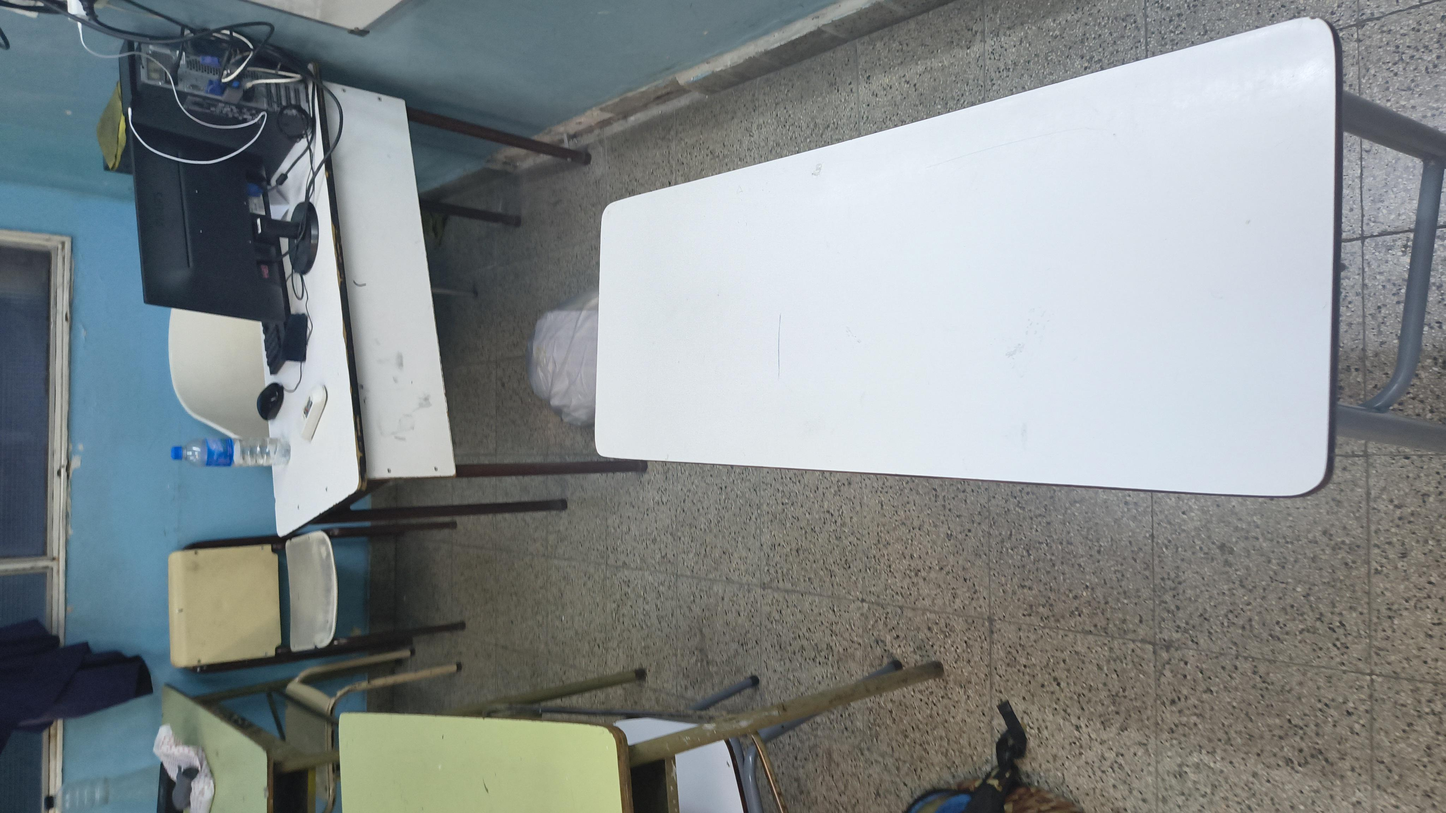Garbage: (684, 282, 973, 365)
